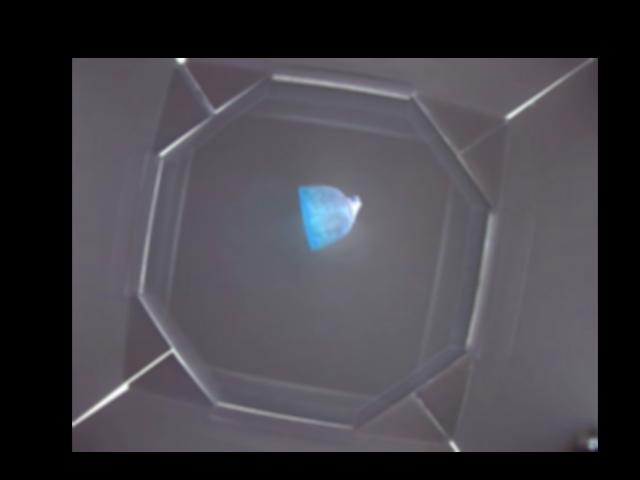Carrot: (295, 184, 362, 250)
